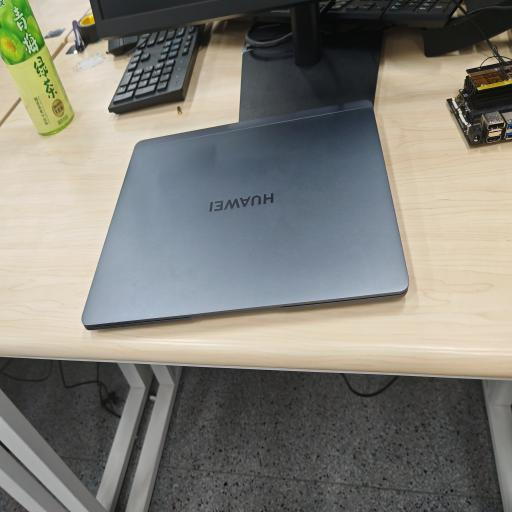laptop: (82, 101, 408, 329)
